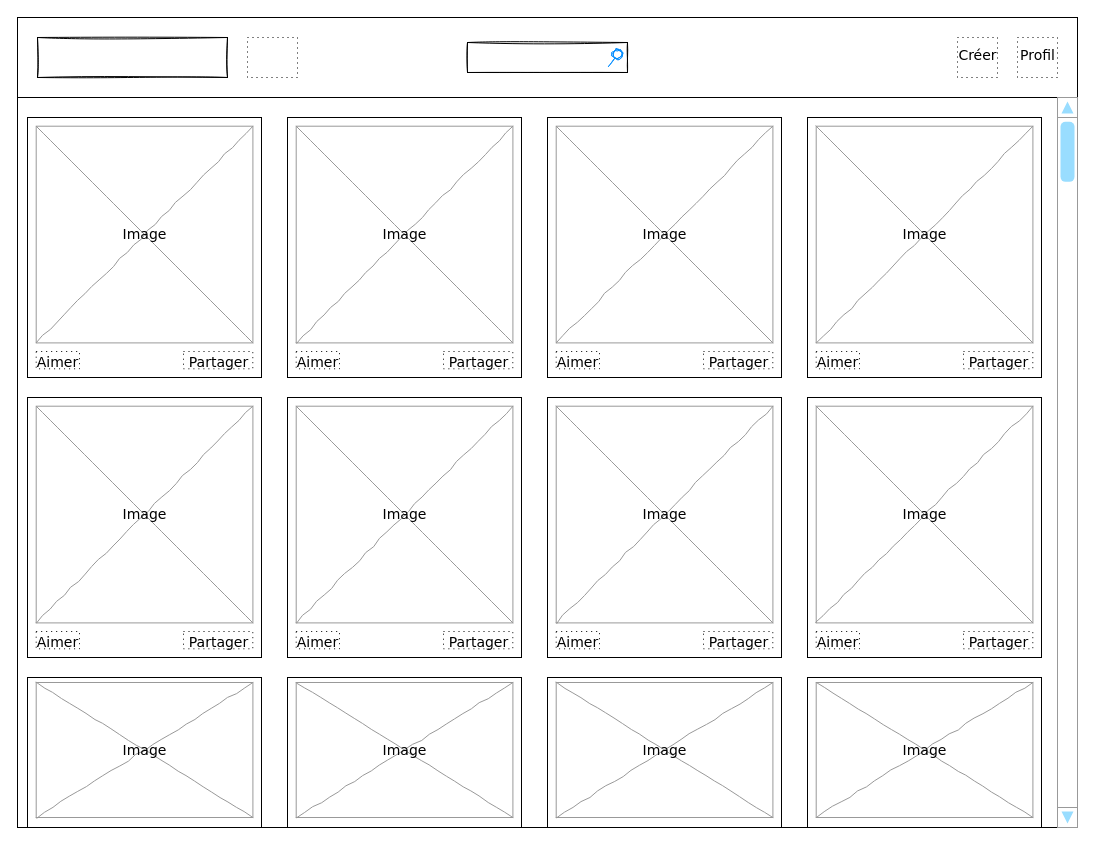
This 1096x845 diagram has some shape labels left out. Here are the shapes that lost their labels. From the top down, the box of each, then its label:
(36, 36, 228, 78): LOGO
(246, 36, 298, 78): Accueil
(466, 42, 628, 72): Username
